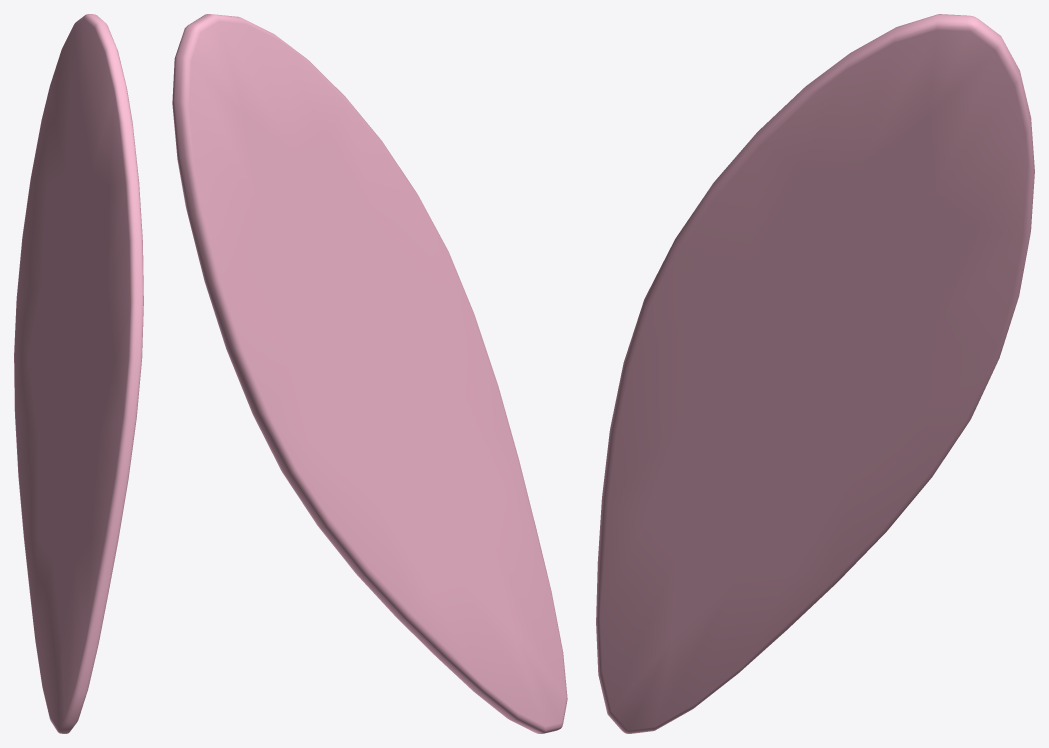
Rendered from pinkFlower_22.glb.
3 renders of one model, left to right at view 1: azimuth 30°, elevation 25°; view 2: azimuth 150°, elevation 25°; view 3: azimuth 270°, elevation 25°, orthographic. The views are drawn at different scales.
Visible parts, largest first — view 1: Petal_04_Elongated.069; view 2: Petal_04_Elongated.069; view 3: Petal_04_Elongated.069.
Boxes of the visible parts, x1,y1,x2,y2 form: Petal_04_Elongated.069: [14, 14, 143, 733]; Petal_04_Elongated.069: [172, 14, 567, 733]; Petal_04_Elongated.069: [596, 14, 1034, 733].
Size of the model in its own units: 0.5299 by 1.83 by 0.892.
